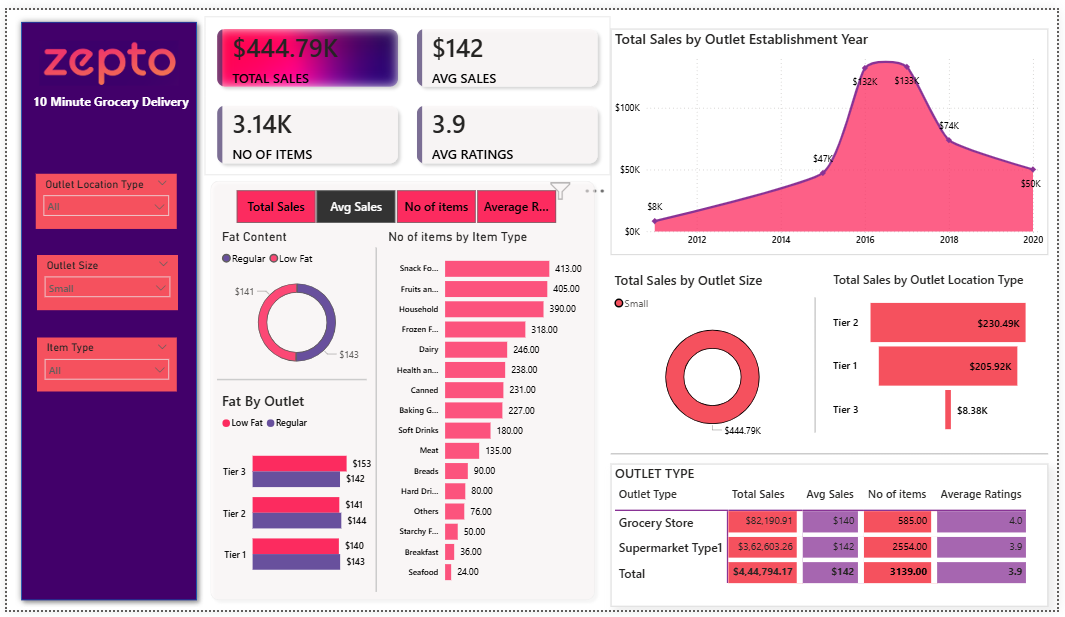

Layout of this report page (visuals, bound fields, positions):
{"tool":"powerbi","page":{"name":"Page 1","canvas":[1400,800],"ordinal":0},"visuals":[{"type":"shape","box":[10.5,6,252.1,789.5],"z":0},{"type":"textbox","box":[27,105.1,223.6,39],"z":1000},{"type":"cardVisual","fields":{"Data":["BlinkIT Grocery Data.Total Sales","BlinkIT Grocery Data.Avg Sales","BlinkIT Grocery Data.No of items","BlinkIT Grocery Data.Average Ratings"]},"box":[262.7,7.5,541.8,213.1],"z":2000},{"type":"image","box":[39,25.5,195.1,91.6],"z":3000},{"type":"shape","box":[262.7,220.6,528.3,574.8],"z":4000},{"type":"donutChart","title":"Fat Content","fields":{"Y":["zepto Grocery Data.Avg Sales"],"Category":["zepto Grocery Data.Item Fat Content"]},"box":[282.2,291.2,210.1,201.1],"z":5000},{"type":"slicer","fields":{"Values":["matrix.matrix"]},"box":[280.7,234.1,475.8,57],"z":6000},{"type":"clusteredBarChart","title":"Fat By Outlet ","fields":{"Y":["zepto Grocery Data.Avg Sales"],"Series":["zepto Grocery Data.Item Fat Content"],"Category":["zepto Grocery Data.Outlet Location Type"]},"box":[282.2,508.8,210.1,267.2],"z":7000},{"type":"barChart","fields":{"Category":["zepto Grocery Data.Item Type"],"Y":["zepto Grocery Data.No of items"]},"box":[502.8,291.2,271.7,484.8],"z":8000},{"type":"lineChart","fields":{"Category":["zepto Grocery Data.Outlet Establishment Year"],"Y":["zepto Grocery Data.Total Sales"]},"box":[805,25,583.3,301.7],"z":9000},{"type":"donutChart","fields":{"Y":["zepto Grocery Data.Total Sales"],"Category":["zepto Grocery Data.Outlet Size"]},"box":[805,348.3,271.7,230],"z":10000},{"type":"funnel","fields":{"Y":["zepto Grocery Data.Total Sales"],"Category":["zepto Grocery Data.Outlet Location Type"]},"box":[1096.7,348.3,271.7,230],"z":11000},{"type":"shape","box":[280.7,480.3,199.6,25.5],"z":12000},{"type":"shape","box":[483.3,316.7,18,459.3],"z":13000},{"type":"shape","box":[805,578.3,583.3,26.7],"z":14000},{"type":"shape","box":[1070,383.3,15,180],"z":15000},{"type":"pivotTable","title":"OUTLET TYPE","fields":{"Rows":["zepto Grocery Data.Outlet Type"],"Values":["zepto Grocery Data.Total Sales","zepto Grocery Data.Avg Sales","zepto Grocery Data.No of items","zepto Grocery Data.Average Ratings"]},"box":[805,605,583.3,190],"z":16000},{"type":"slicer","fields":{"Values":["zepto Grocery Data.Outlet Location Type"]},"box":[39,217.6,187.6,73.5],"z":17000},{"type":"slicer","fields":{"Values":["zepto Grocery Data.Outlet Size"]},"box":[40.5,327.2,187.6,73.5],"z":18000},{"type":"slicer","fields":{"Values":["zepto Grocery Data.Item Type"]},"box":[40.5,436.8,186.1,72],"z":19000}]}

Visuals, with their boxes in screenshot pixels (x1, y1, x2, y2), scaled from the page's 1400x800 canvas onto the 1065x617 screenshot:
shape: l=8, t=5, r=200, b=614
textbox: l=21, t=81, r=191, b=111
cardVisual - BlinkIT Grocery Data.Total Sales x BlinkIT Grocery Data.Avg Sales: l=200, t=6, r=612, b=170
image: l=30, t=20, r=178, b=90
shape: l=200, t=170, r=602, b=613
"Fat Content" donutChart: l=215, t=225, r=374, b=380
slicer - matrix.matrix: l=214, t=181, r=575, b=225
"Fat By Outlet " clusteredBarChart: l=215, t=392, r=374, b=598
barChart - zepto Grocery Data.Item Type x zepto Grocery Data.No of items: l=382, t=225, r=589, b=598
lineChart - zepto Grocery Data.Outlet Establishment Year x zepto Grocery Data.Total Sales: l=612, t=19, r=1056, b=252
donutChart - zepto Grocery Data.Total Sales x zepto Grocery Data.Outlet Size: l=612, t=269, r=819, b=446
funnel - zepto Grocery Data.Total Sales x zepto Grocery Data.Outlet Location Type: l=834, t=269, r=1041, b=446
shape: l=214, t=370, r=365, b=390
shape: l=368, t=244, r=381, b=598
shape: l=612, t=446, r=1056, b=467
shape: l=814, t=296, r=825, b=434
"OUTLET TYPE" pivotTable: l=612, t=467, r=1056, b=613
slicer - zepto Grocery Data.Outlet Location Type: l=30, t=168, r=172, b=225
slicer - zepto Grocery Data.Outlet Size: l=31, t=252, r=174, b=309
slicer - zepto Grocery Data.Item Type: l=31, t=337, r=172, b=392
